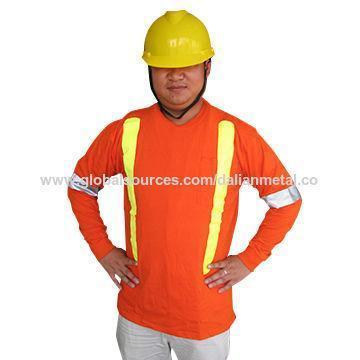vest: (75, 100, 273, 343)
